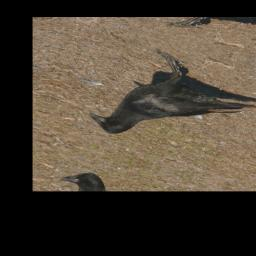Crow: (86, 41, 256, 167)
